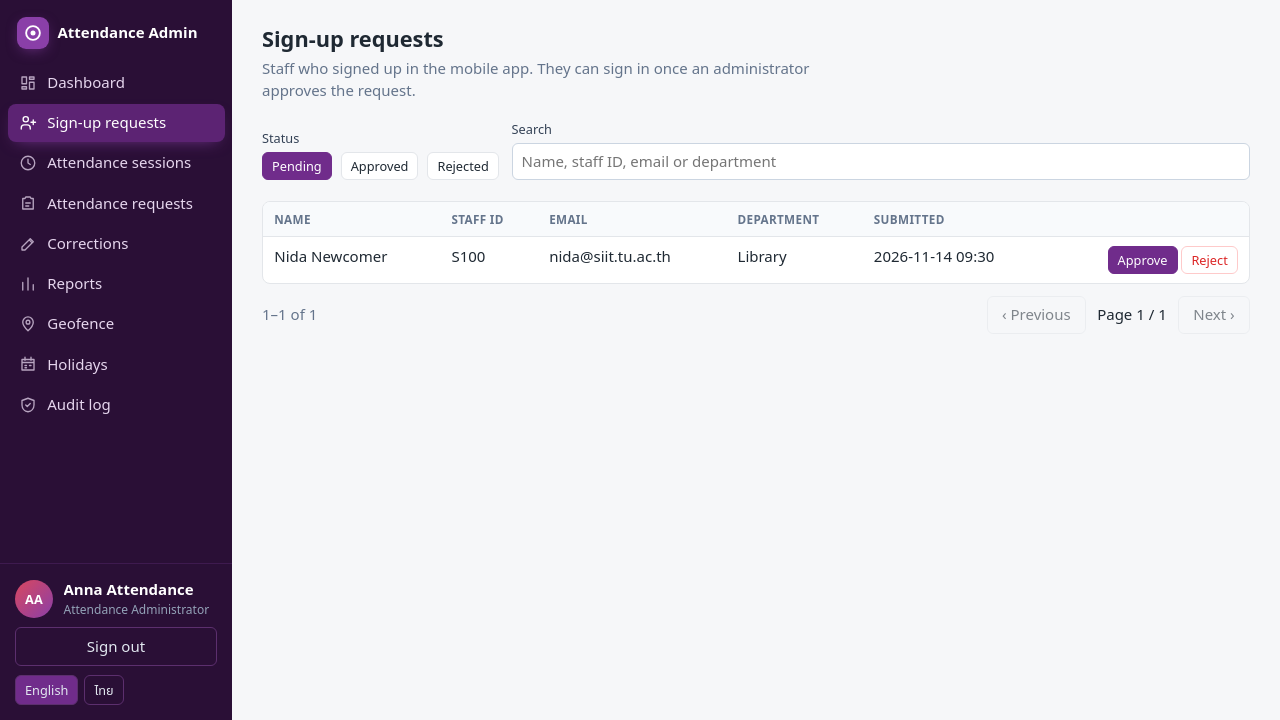
Test: Sign-up requests › approves with an optional note, then refreshes the list
Click the button with aria-label "Approve Nida Newcomer". click: (1142, 260)
box: [1108, 246, 1178, 274]
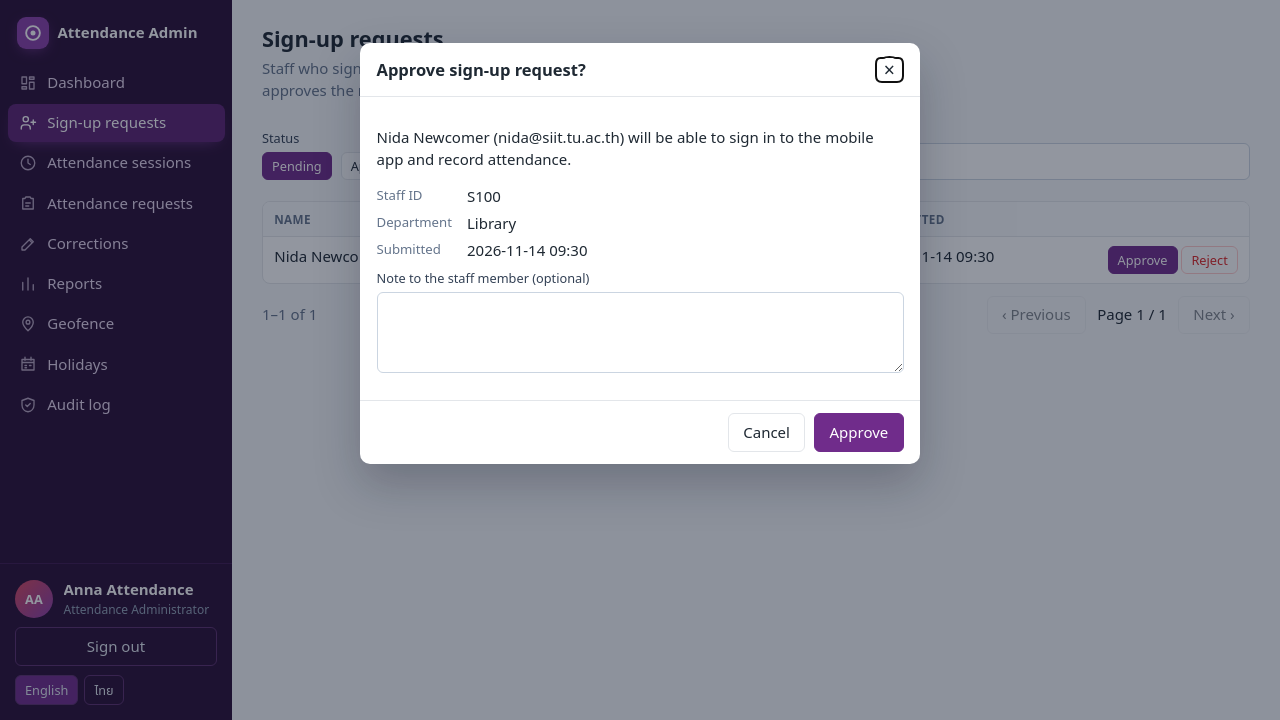
Type "Welcome aboard" into the text box labelled "Note to the staff member (optional)". click: (640, 332)
box: [376, 292, 904, 373]
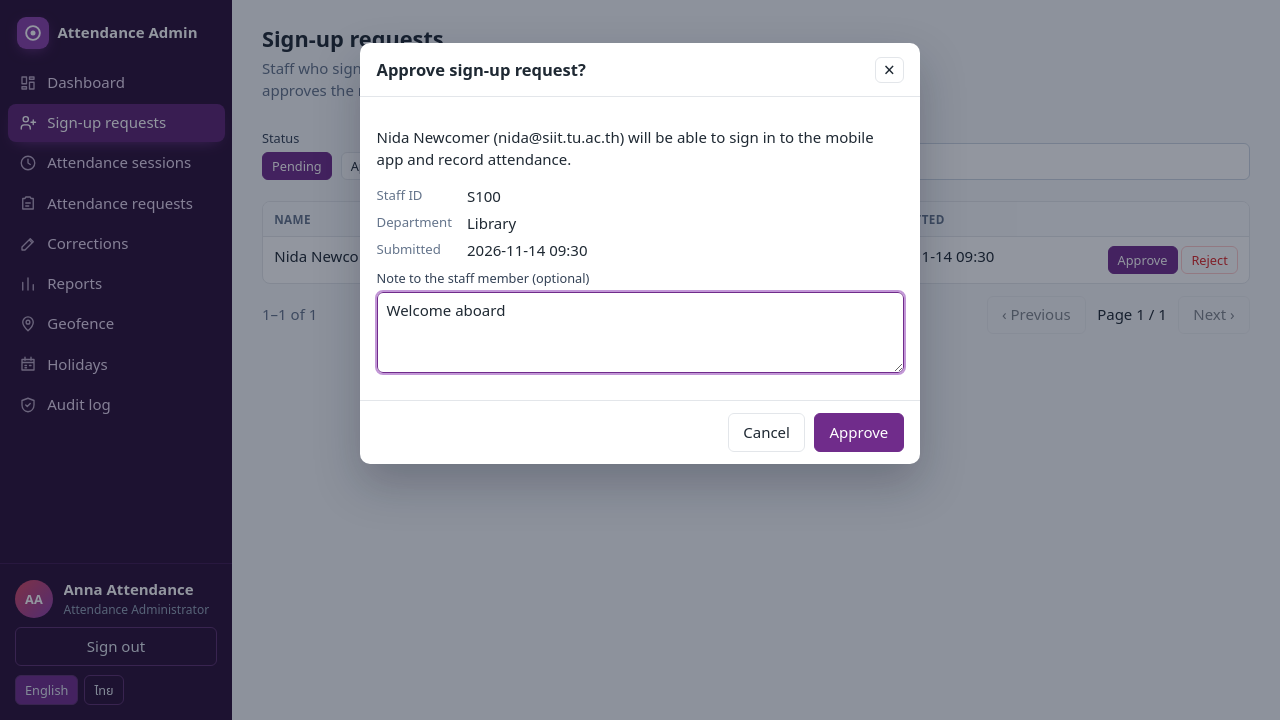
Click the button "Approve". click: (859, 433)
box: [814, 413, 904, 452]
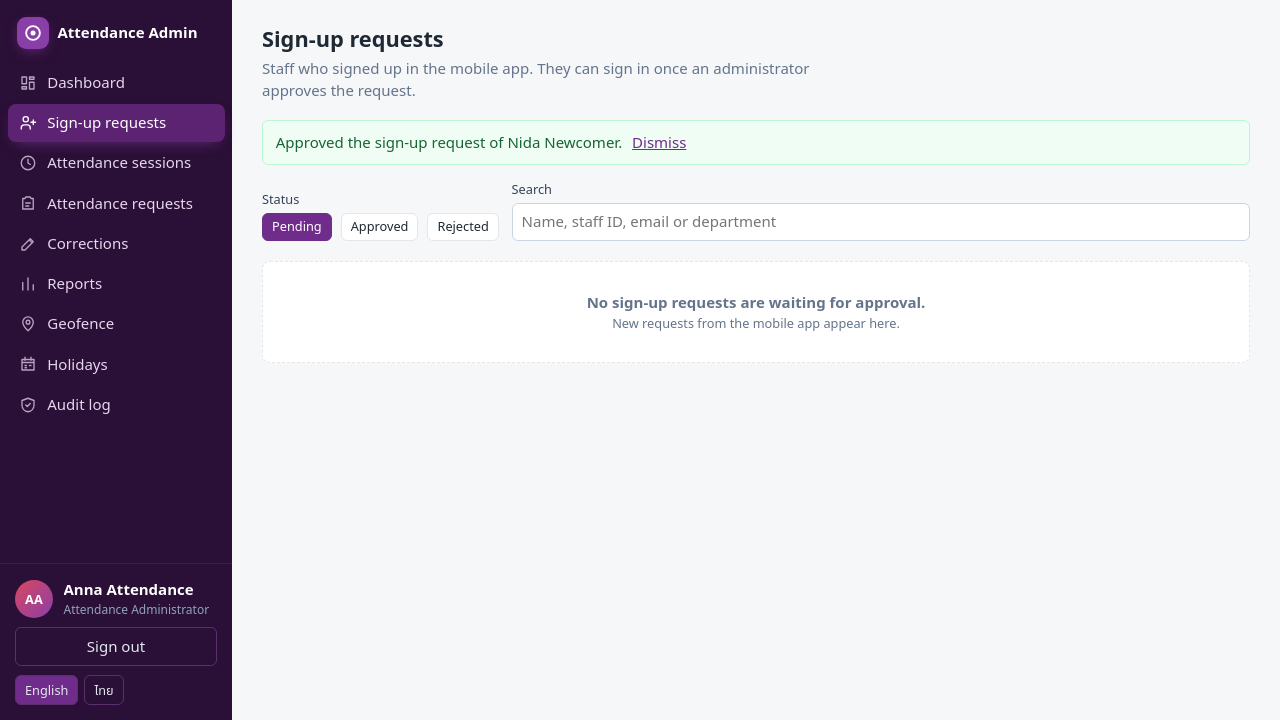
Check: the text "Approved the sign-up request of Nida Newcomer." is shown, box [276, 132, 622, 152]
Check: the text "No sign-up requests are waiting for approval." is shown, box [587, 292, 925, 312]
Check: the dialog is gone
